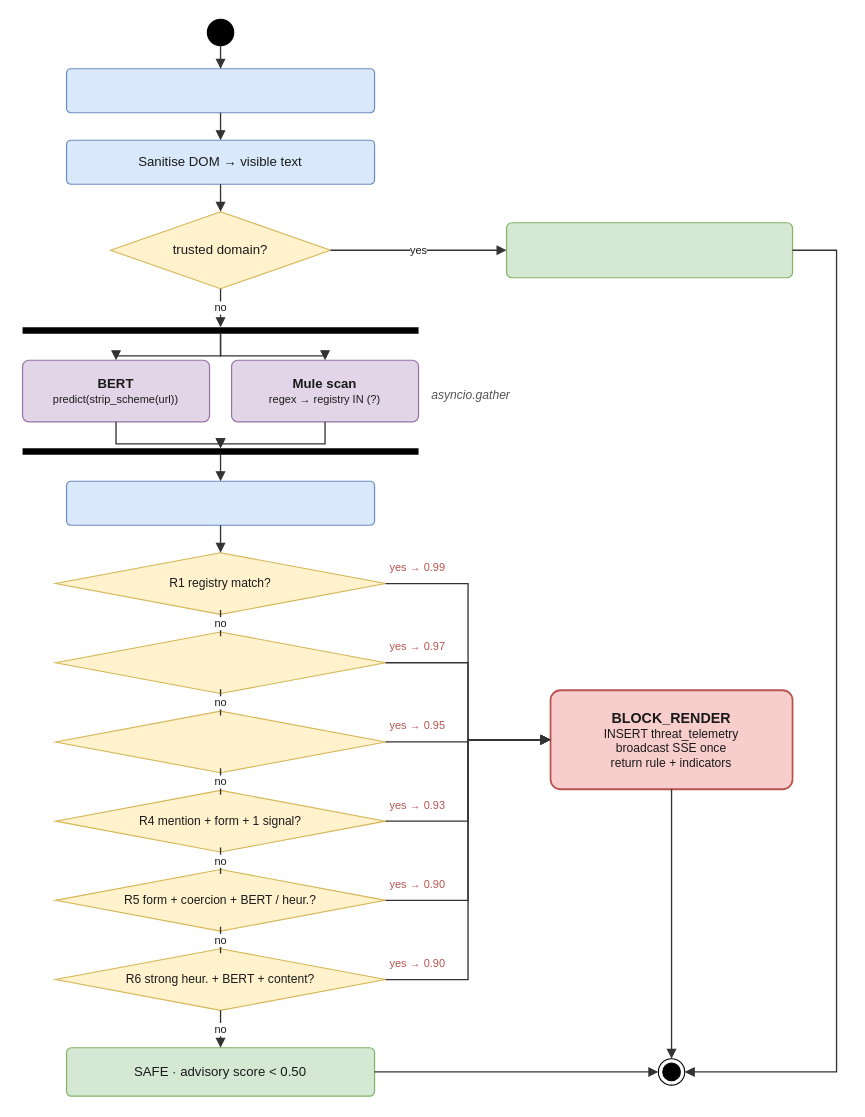
The diagram is 865 pixels wide and 1117 high, and some of its shapes have lost their labels. The box of each missing label's shape, as (x1, y1, x2, y2) in pixels:
Brand tiers · heuristics · form · lexicon: (65, 480, 375, 525)
R2 brand in host + 1 signal?: (54, 631, 386, 694)
R3 look-alike + cred / BERT / strong?: (54, 710, 386, 773)
SAFE · risk 0.0 · BERT skipped: (505, 222, 793, 278)
Validate key, rate limit and schema: (65, 68, 375, 113)
